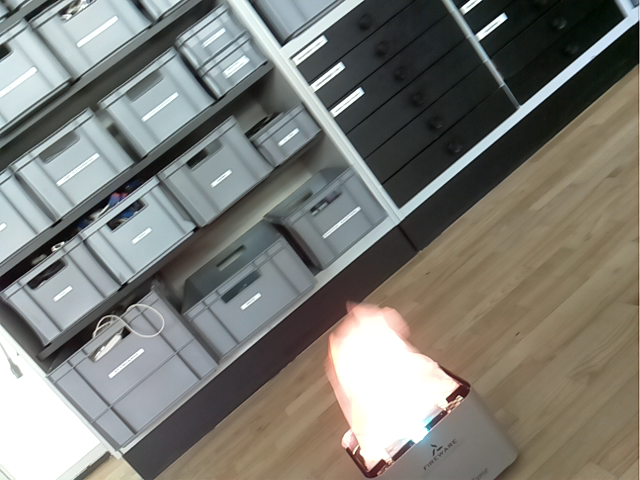fire: (326, 302, 461, 473)
